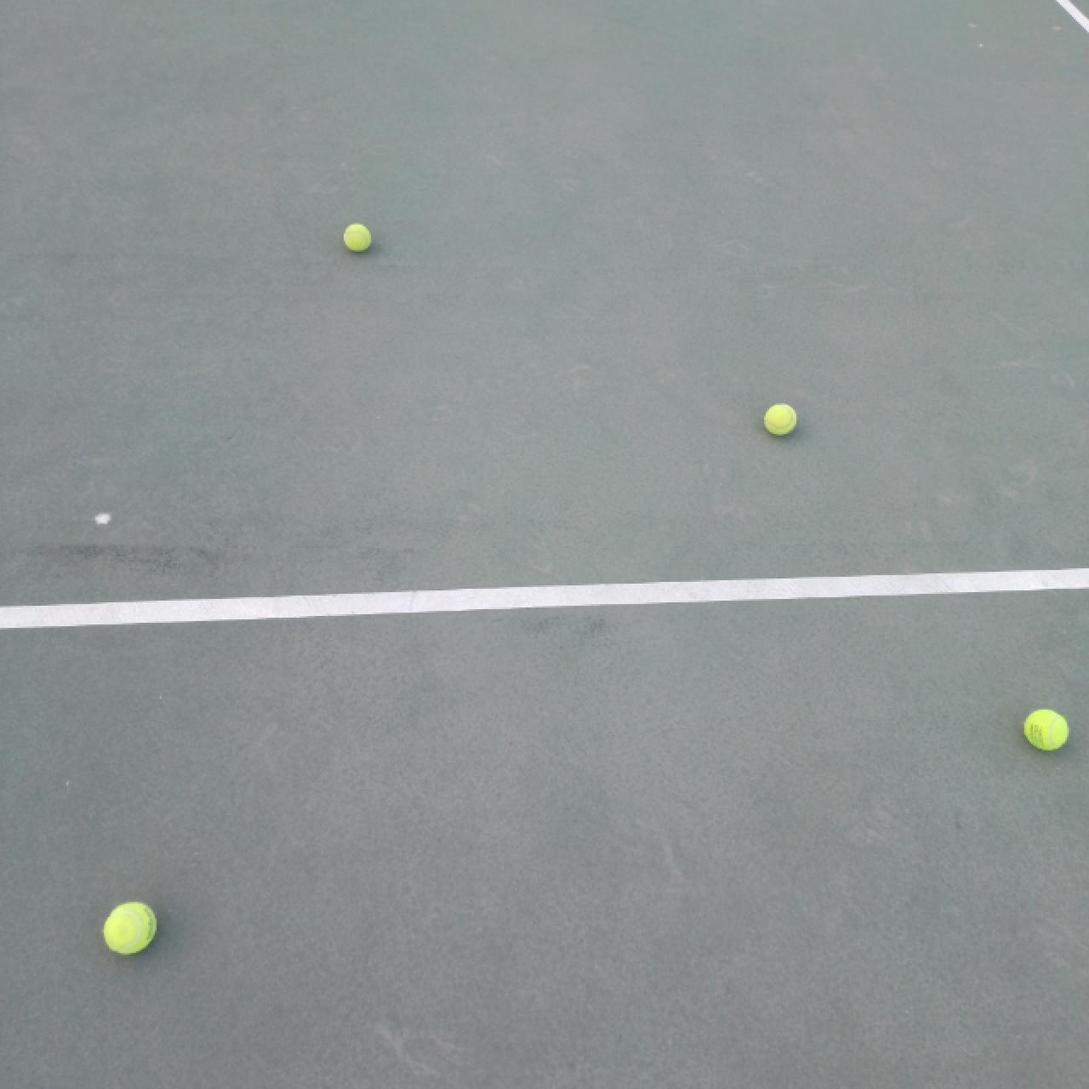tennis-ball: (101, 899, 160, 957), (1022, 708, 1069, 753), (763, 403, 798, 436), (343, 221, 372, 253)
